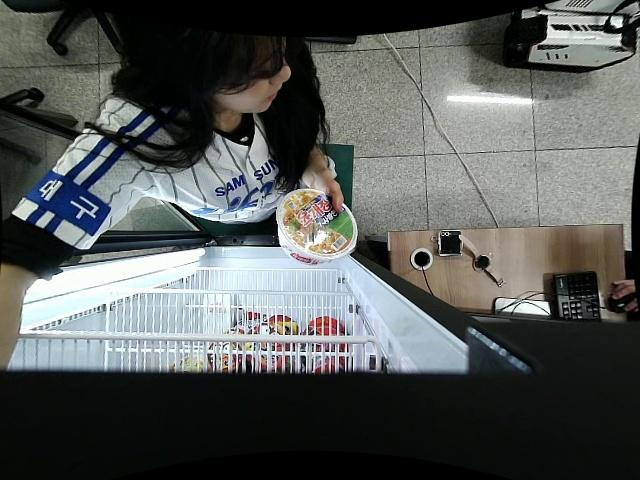00_hand: (303, 152, 347, 215)
09_yukGaeJang: (277, 190, 358, 265)
